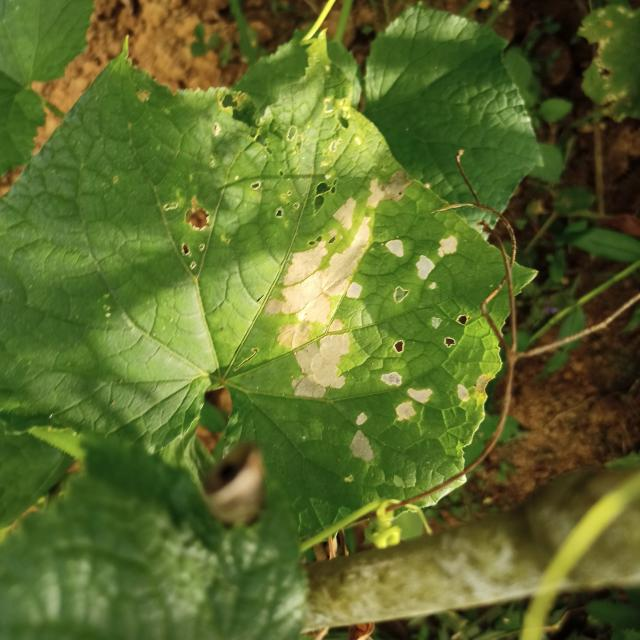disease_cucumber: (258, 172, 496, 472)
